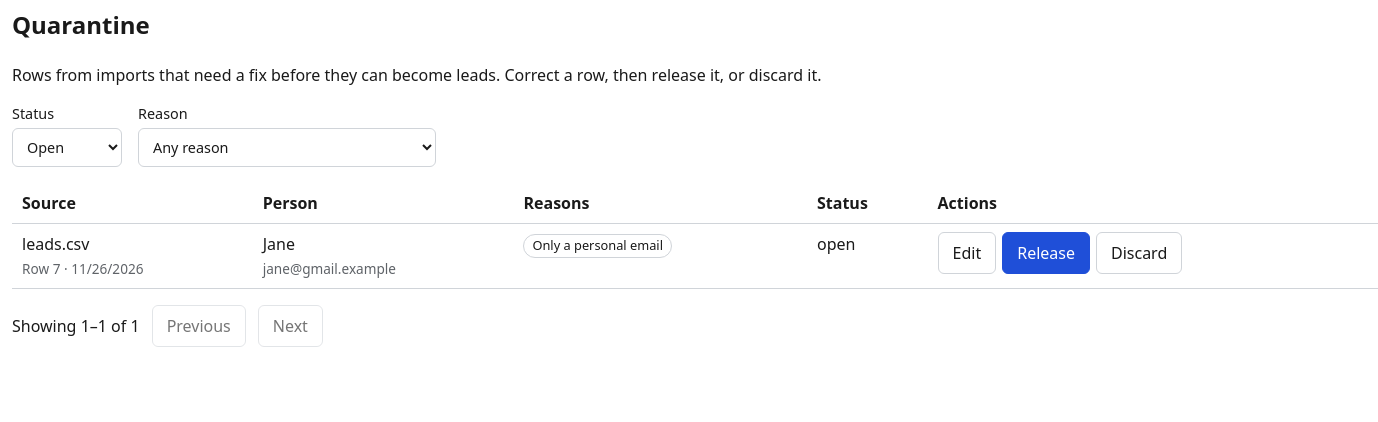
Test: release › released: true says the row is now in the lead database and refreshes the list
The image size is (1378, 422).
Expected: the text "leads.csv" is shown, [22,233,89,255]
Click the button with aria-label "Release row 7 of leads.csv" at (1046, 253), box [1002,232,1090,274]
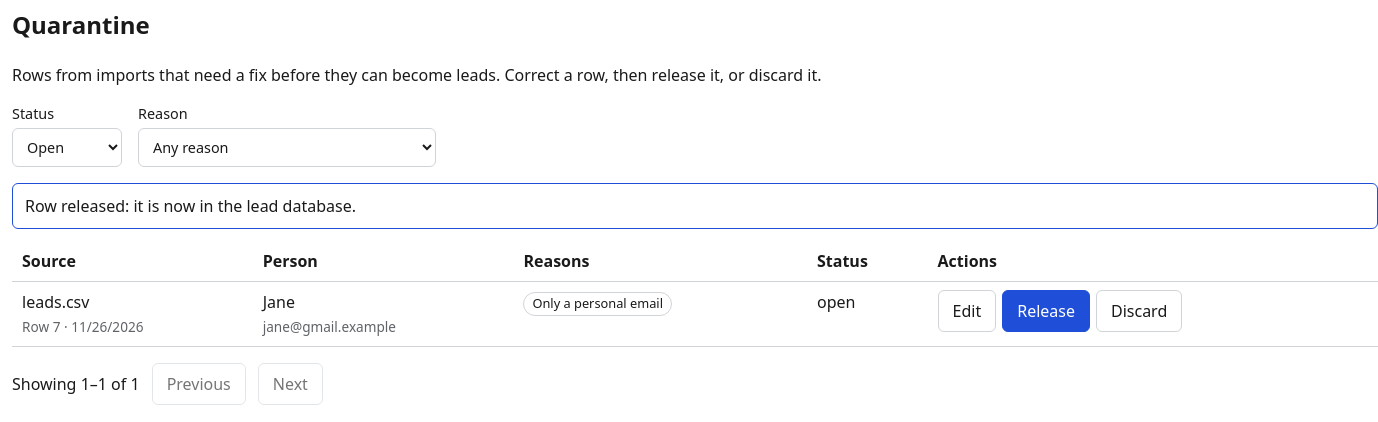
Expected: the text "Row released: it is now in the lead database." is shown, [12,183,1377,229]
